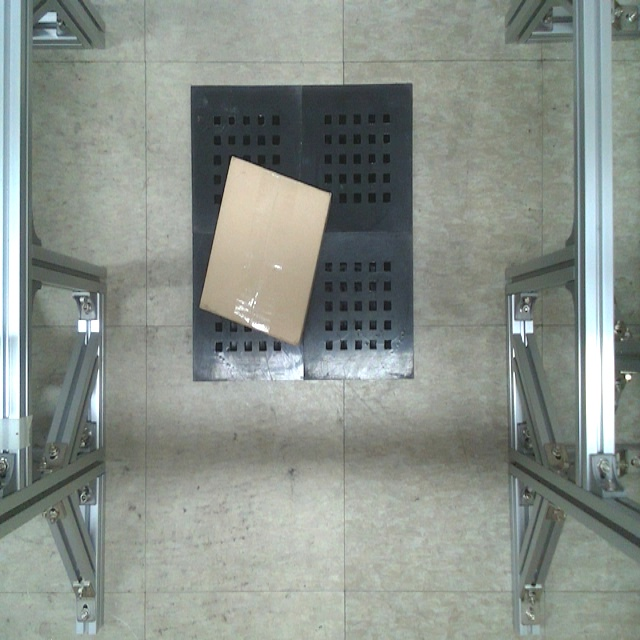box: (196, 155, 332, 348)
pallet: (192, 79, 415, 383)
